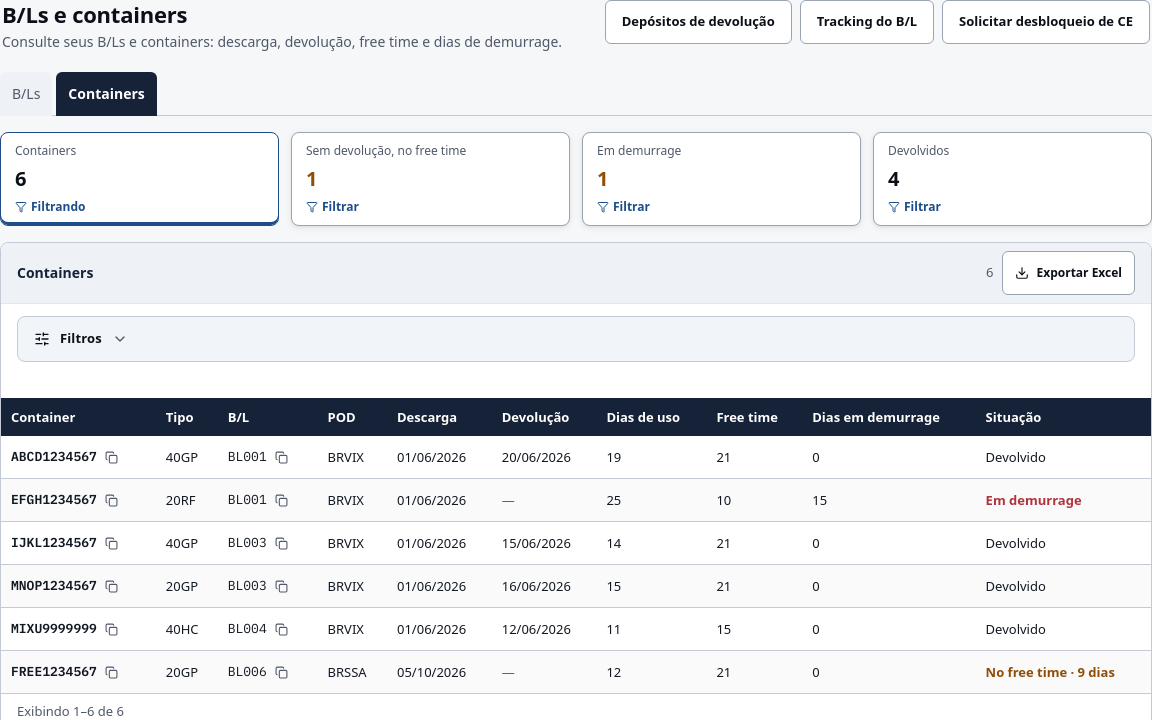
Scenario: PortalOperacao (BLs e Containers) › filtra pelos cartões da aba Containers, com "Sem devolução, no free time" fora da demurrage
The width and height of the screenshot is (1152, 720).
Expected: the button "Containers 6 Filtrando" is shown, [0,132,279,226]
Expected: the button "Em demurrage 1 Filtrar" is shown, [582,132,861,226]
Click the button "Sem devolução, no free time 1 Filtrar".
click(386, 150)  # box [291,132,570,226]
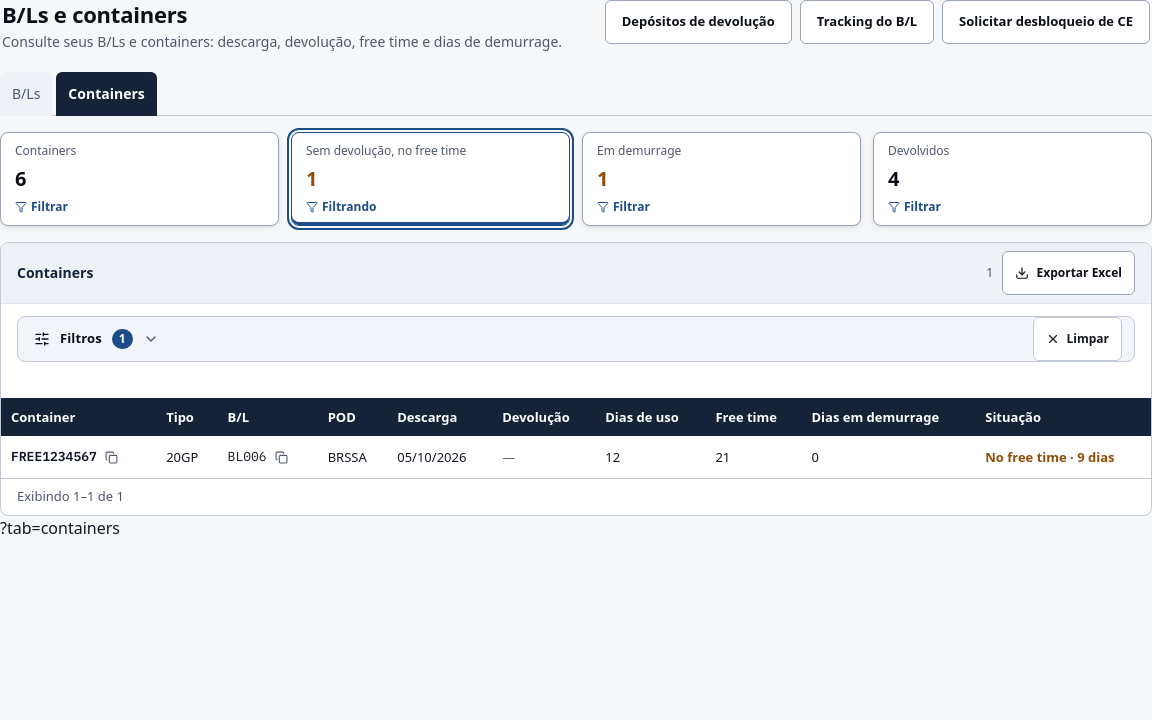
Expected: the text "FREE1234567" is shown, [11,446,123,468]
Result: the text "EFGH1234567" is gone
Result: the text "ABCD1234567" is gone
